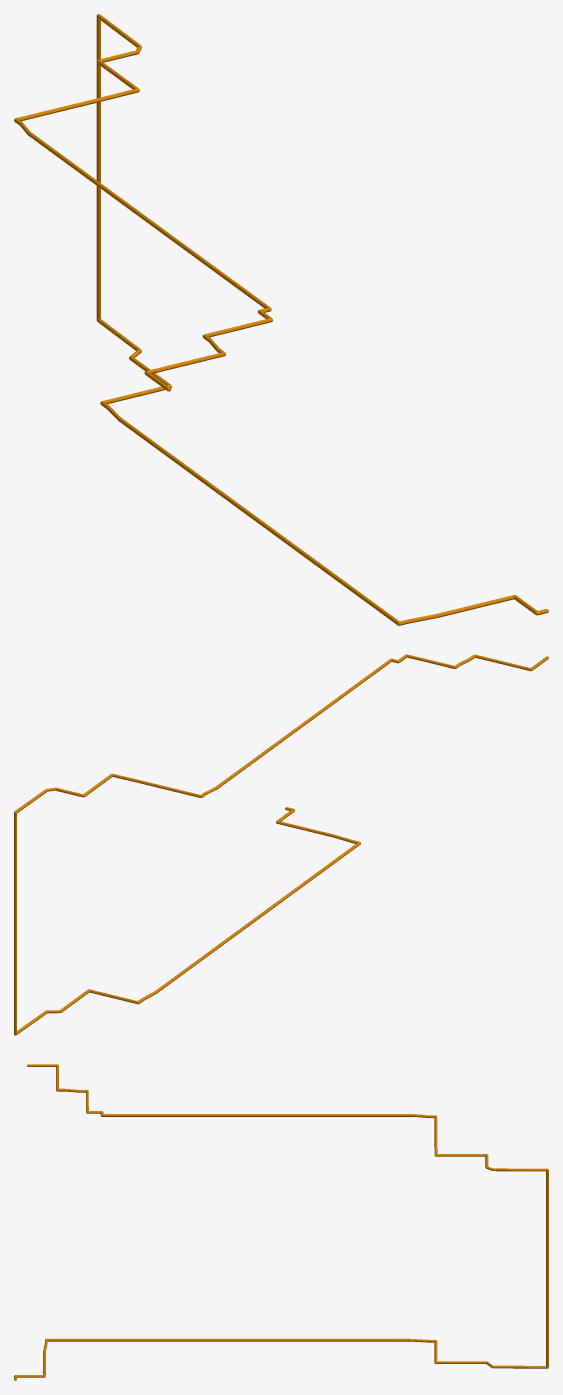
The picture shows the model from 3 angles, top to bottom: view 1: azimuth 30°, elevation 25°; view 2: azimuth 150°, elevation 25°; view 3: azimuth 270°, elevation 25°; orthographic projection. The views are drawn at different scales.
Size of the model in its own units: 1920 by 1520 by 3687.
